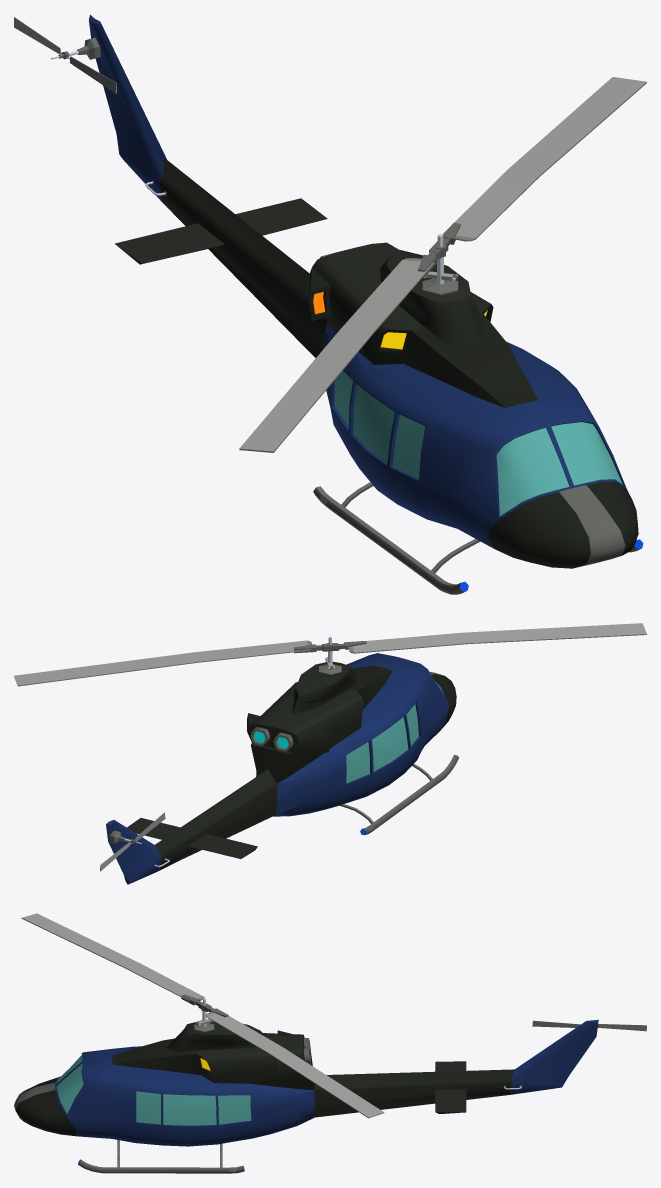
Rendered from Helicopter_Blue.glb.
The picture shows the model from 3 angles, top to bottom: view 1: azimuth 30°, elevation 25°; view 2: azimuth 150°, elevation 25°; view 3: azimuth 270°, elevation 25°; orthographic projection. The views are drawn at different scales.
Parts seen in each view (by area): view 1: Helicopter_C; view 2: Helicopter_C; view 3: Helicopter_C.
Boxes of the visible parts, left/top/right/bottom form: Helicopter_C: left=14, top=14, right=646, bottom=594; Helicopter_C: left=14, top=623, right=646, bottom=884; Helicopter_C: left=14, top=913, right=646, bottom=1173.
Size of what is drawn, in the model's own units: 10.31 by 3.75 by 14.32.
1 material, 1 textured.
